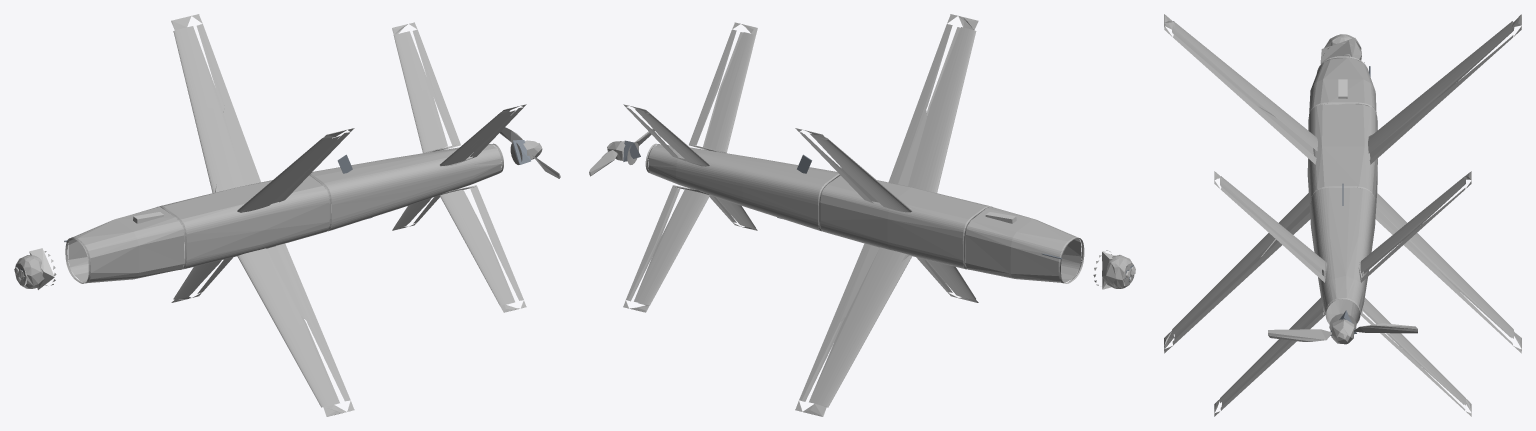
File: pmc_loiter_drone.obj
3 renders of one model, left to right at view 1: azimuth 30°, elevation 25°; view 2: azimuth 150°, elevation 25°; view 3: azimuth 270°, elevation 25°, orthographic. The views are drawn at different scales.
Visible parts, largest first — view 1: pmc_loiter_drone; view 2: pmc_loiter_drone; view 3: pmc_loiter_drone.
Part boxes in pixels (x1,y1,x2,y2): pmc_loiter_drone: (14,14,560,416); pmc_loiter_drone: (589,14,1135,416); pmc_loiter_drone: (1164,14,1521,416).
Size of the model in its own units: 1.76 by 0.9062 by 0.9062.
Materials: 1 (1 with a texture image).
